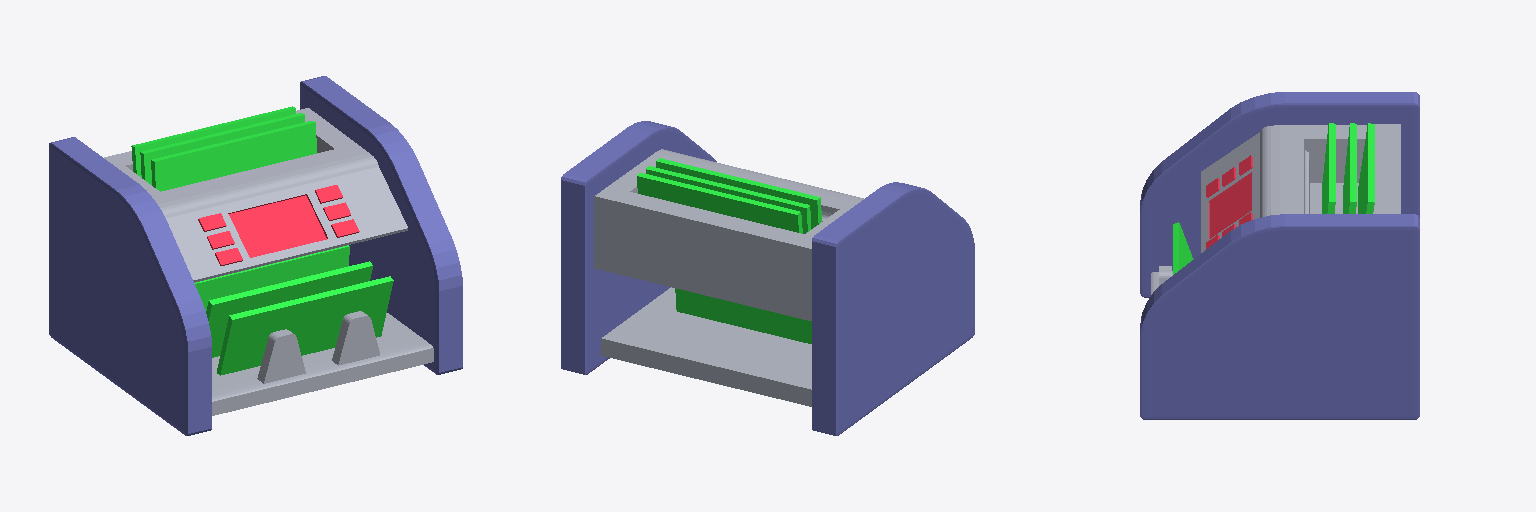
The model's file is moneymachine_3.obj.
3 renders of one model, left to right at view 1: azimuth 30°, elevation 25°; view 2: azimuth 150°, elevation 25°; view 3: azimuth 270°, elevation 25°, orthographic.
Parts seen in each view (by area): view 1: Cube.110_Material.004, Cube.110_Material.006, Cube.110_Material.002, Cube.110_Material.007; view 2: Cube.110_Material.004, Cube.110_Material.006, Cube.110_Material.002; view 3: Cube.110_Material.004, Cube.110_Material.006, Cube.110_Material.002, Cube.110_Material.007.
Boxes of the visible parts, box(x1,y1,x2,y2) form: Cube.110_Material.004: box(49, 76, 462, 435); Cube.110_Material.006: box(104, 108, 433, 415); Cube.110_Material.002: box(131, 106, 393, 375); Cube.110_Material.007: box(198, 185, 359, 265); Cube.110_Material.004: box(561, 121, 974, 435); Cube.110_Material.006: box(594, 149, 863, 406); Cube.110_Material.002: box(637, 158, 821, 343); Cube.110_Material.004: box(1140, 92, 1419, 419); Cube.110_Material.006: box(1151, 124, 1400, 294); Cube.110_Material.002: box(1173, 123, 1374, 274); Cube.110_Material.007: box(1206, 155, 1252, 248).
Bounding box in the file's own units: 15.3 × 10.33 × 13.43.